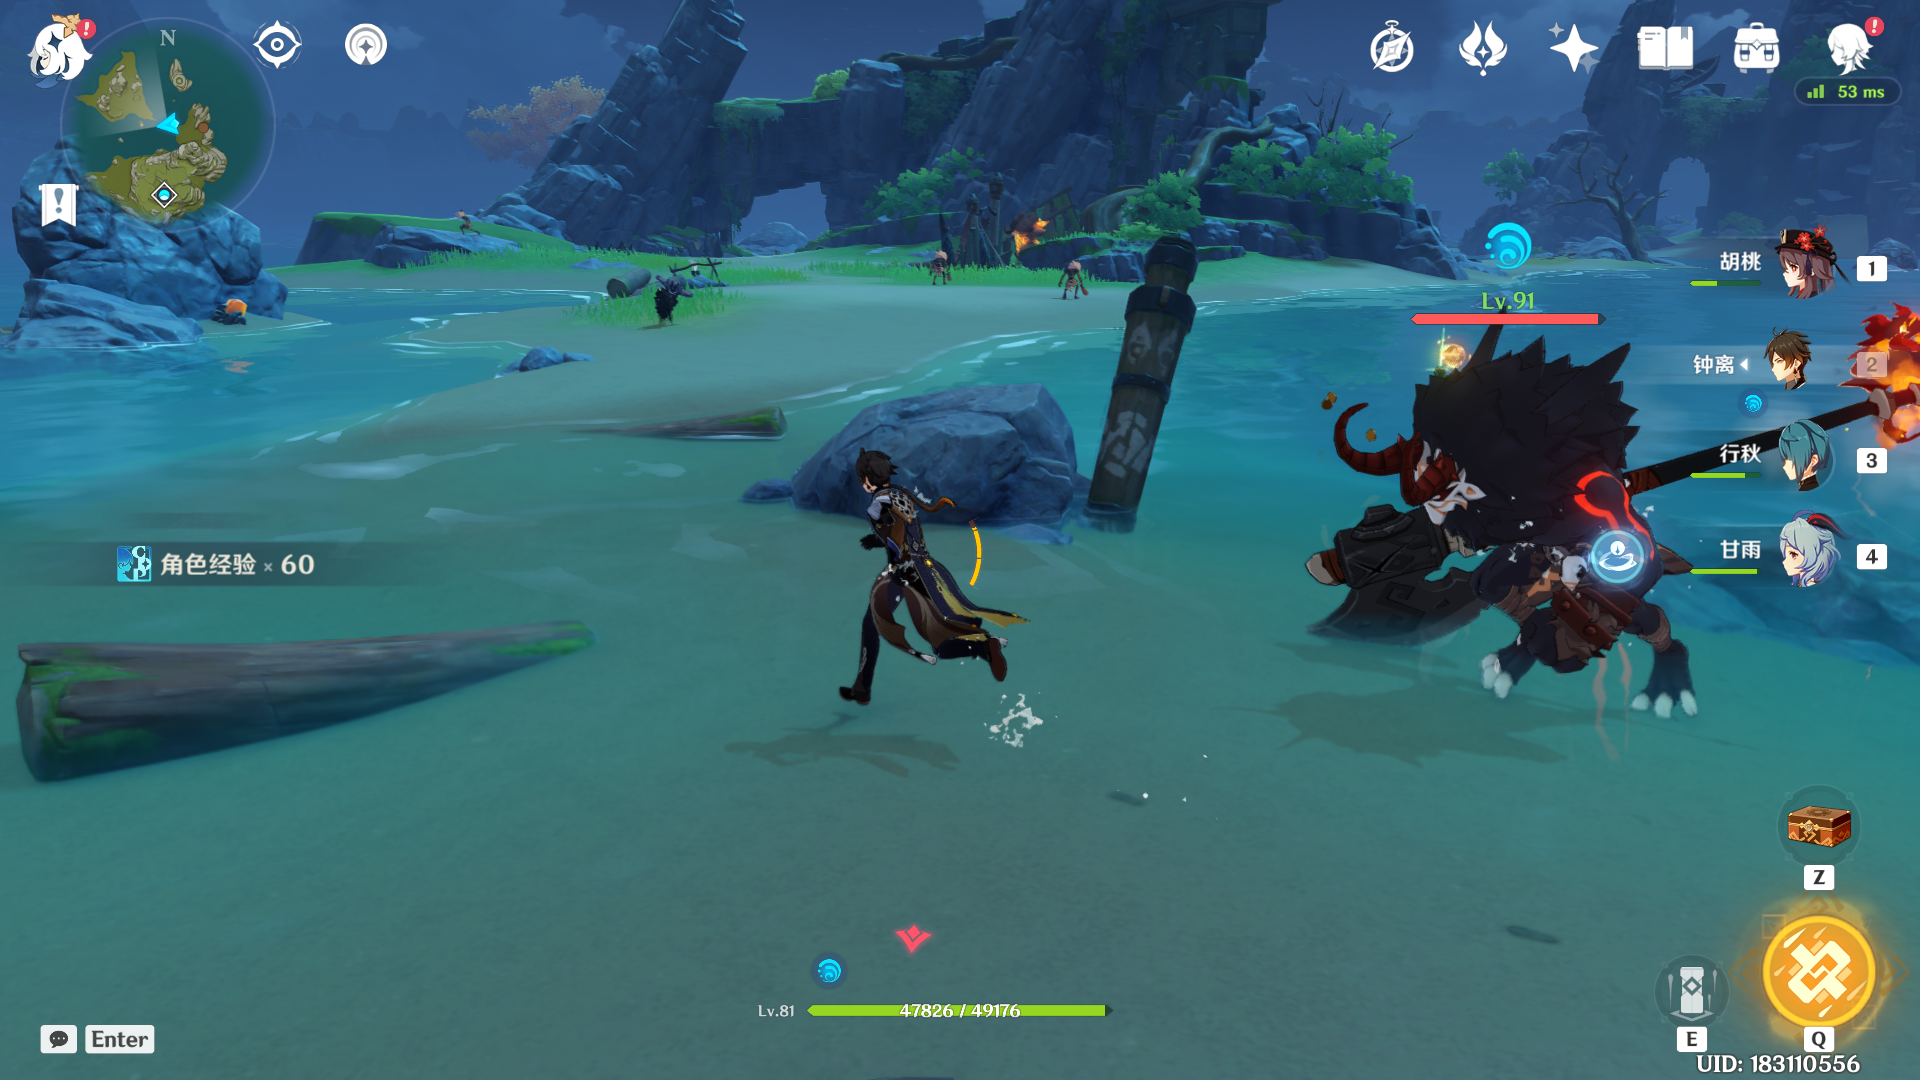bighili: (1276, 287, 1807, 757)
character: (779, 405, 1062, 760)
hili: (913, 239, 976, 313), (1040, 256, 1112, 320)
